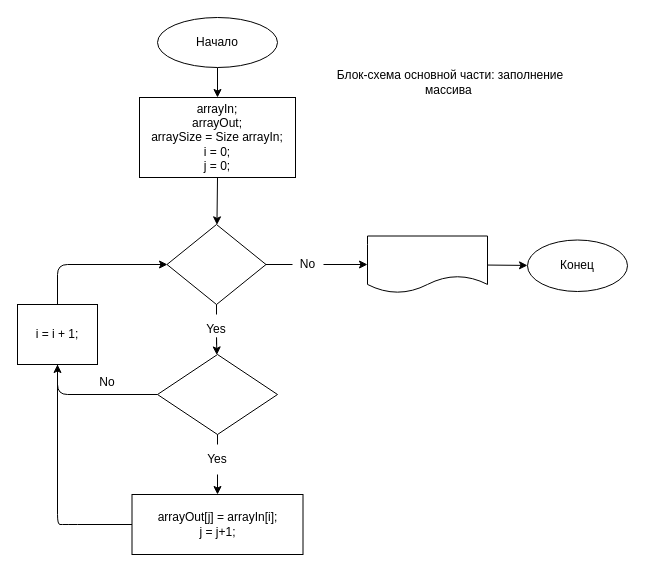
Some shapes in this 645 by 572 pixel diagram are drawn without their labels. The box of each missing label's shape, as (x1, y1, x2, y2) in pixels:
arrayOut;: (366, 235, 488, 293)
i < arraySize: (166, 224, 266, 304)
size arrayIn[i] <4: (156, 354, 278, 434)
